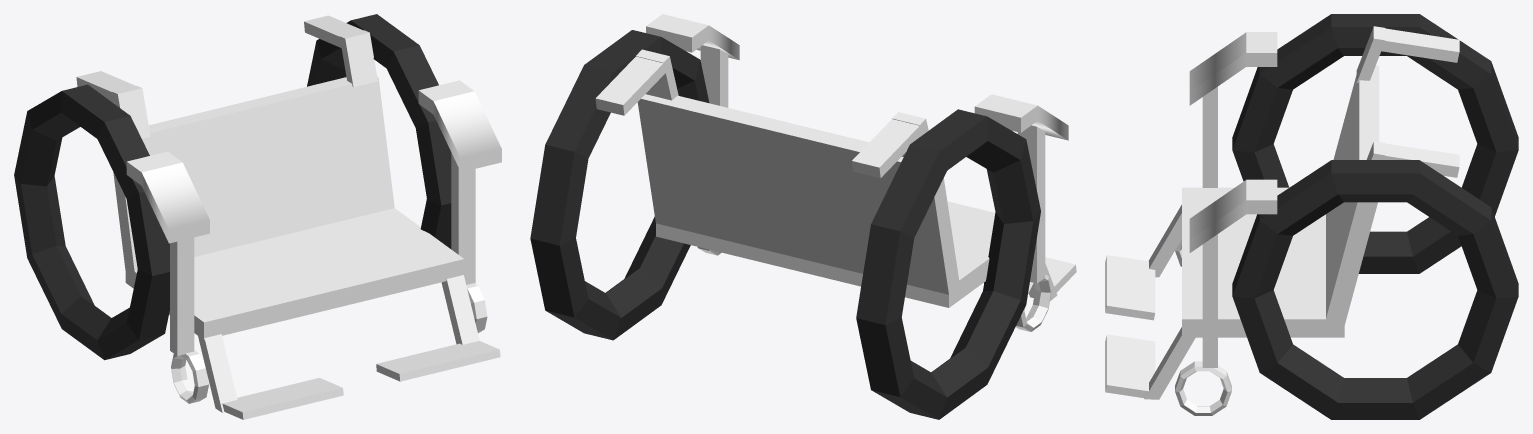
File: Wheelchair_Rig.fbx
The picture shows the model from 3 angles, left to right: view 1: azimuth 30°, elevation 25°; view 2: azimuth 150°, elevation 25°; view 3: azimuth 270°, elevation 25°; orthographic projection. The views are drawn at different scales.
Parts seen in each view (by area): view 1: WheelChair; view 2: WheelChair; view 3: WheelChair.
Boxes of the visible parts, x1,y1,x2,y2 form: WheelChair: (14, 14, 501, 419); WheelChair: (530, 14, 1076, 419); WheelChair: (1105, 14, 1518, 419).
Size of the model in its own units: 3.28 by 2.29 by 3.41.
